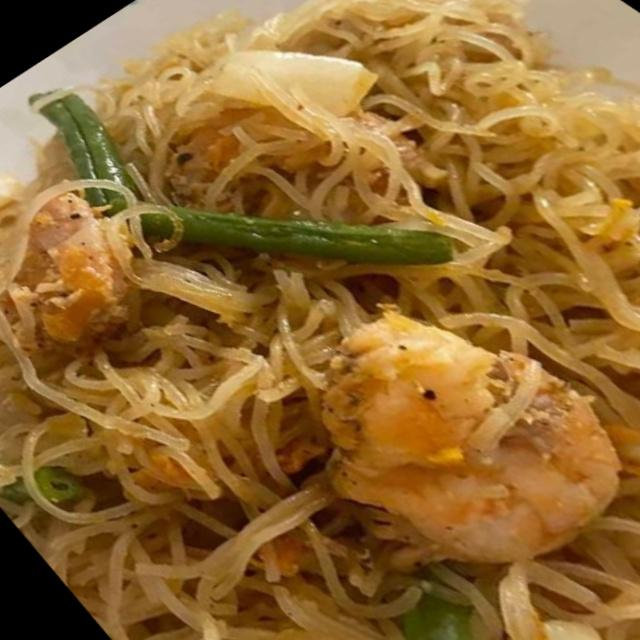pancit bihon: (0, 0, 639, 639)
